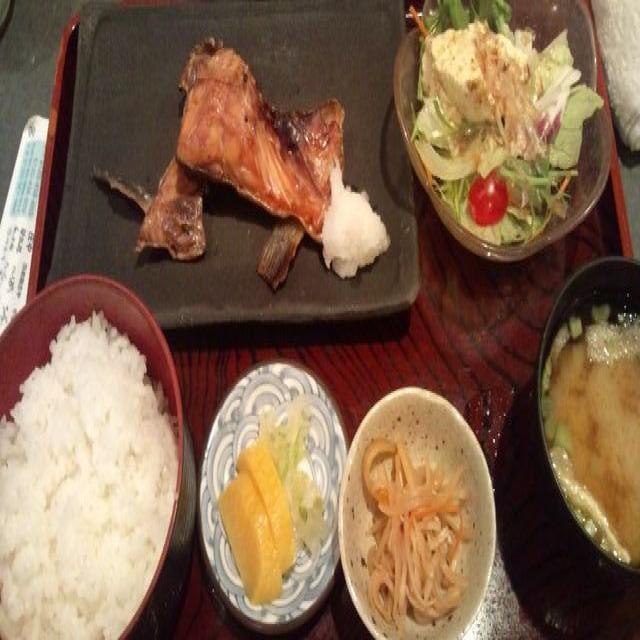Rice: (0, 312, 178, 640)
